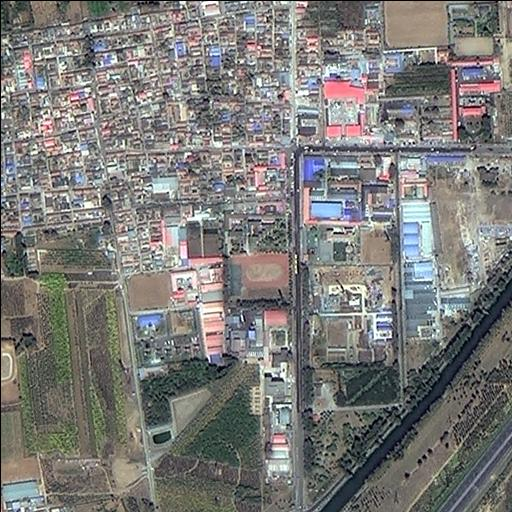school: (222, 214, 291, 306)
